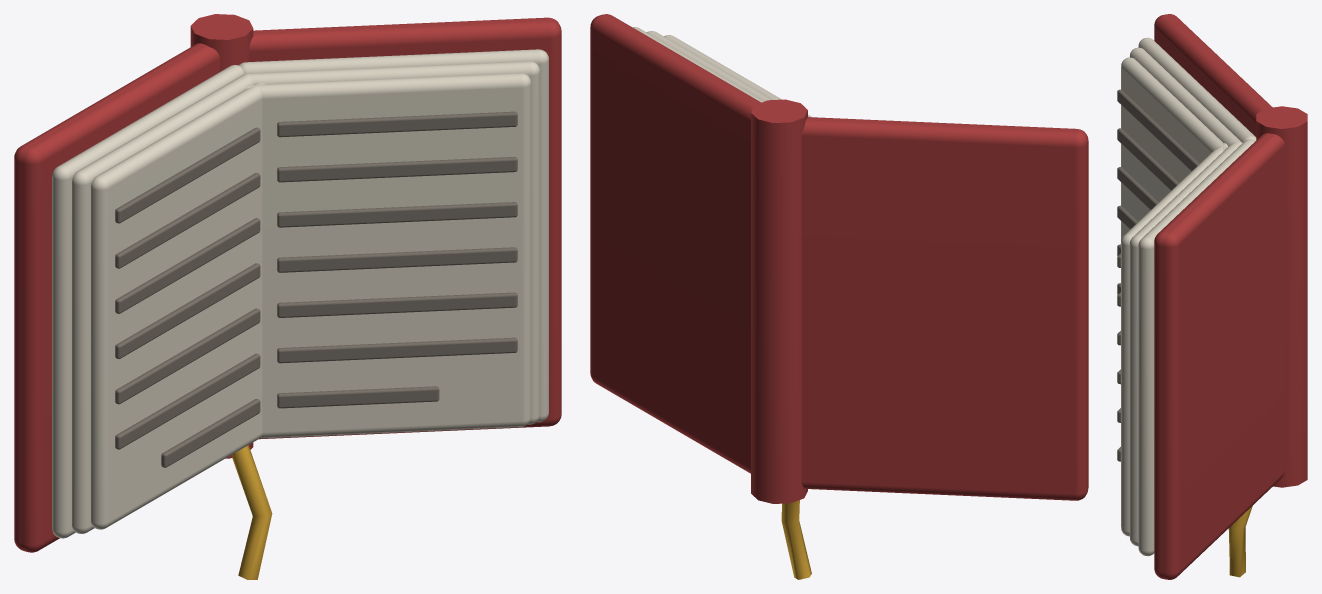
The model's file is style_book.glb.
3 views of the same model, side by side, from view 1: azimuth 30°, elevation 25°; view 2: azimuth 150°, elevation 25°; view 3: azimuth 270°, elevation 25° (orthographic). The views are drawn at different scales.
Visible parts, largest first — view 1: style_book_main; view 2: style_book_main; view 3: style_book_main.
Boxes of the visible parts, x1=… form: style_book_main: x1=14, y1=14, x2=561, y2=579; style_book_main: x1=590, y1=14, x2=1088, y2=579; style_book_main: x1=1117, y1=14, x2=1307, y2=579.
Size of the model in its own units: 0.239 by 0.2239 by 0.0847.
